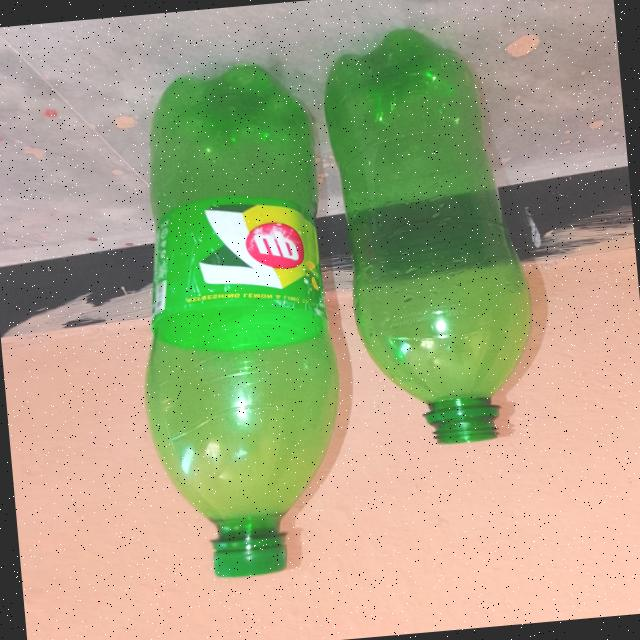bottle: (114, 60, 360, 600), (310, 21, 536, 468)
cap: (194, 526, 306, 588)
label: (145, 186, 313, 322)
